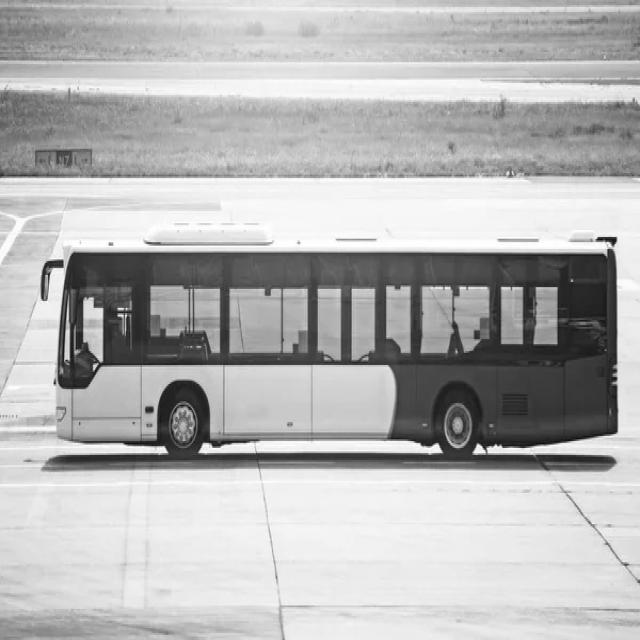Bus: (40, 221, 621, 456)
